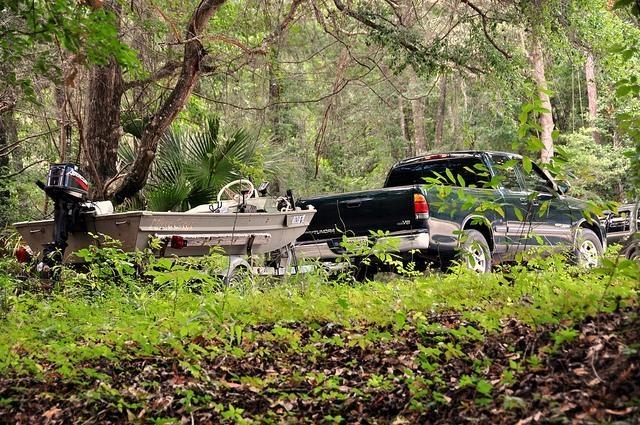truck: (295, 150, 609, 286)
